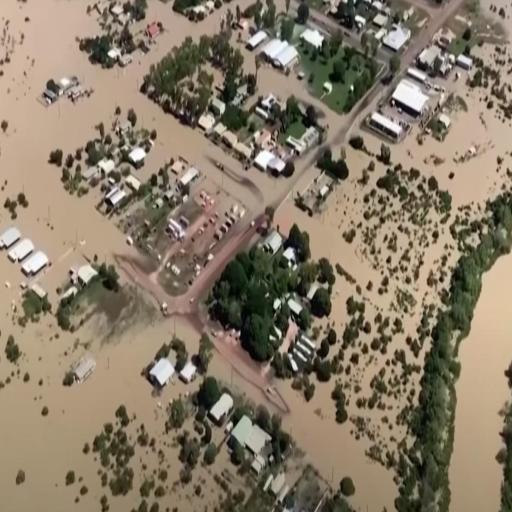flood: (0, 0, 512, 511), (450, 252, 512, 510), (256, 59, 343, 127), (230, 27, 255, 73)
house: (230, 416, 273, 478), (390, 78, 430, 122), (367, 108, 404, 144), (261, 37, 298, 73), (149, 357, 176, 393), (383, 22, 412, 54), (302, 26, 330, 58), (209, 391, 234, 426), (262, 227, 284, 260), (8, 238, 33, 266), (22, 251, 48, 277), (247, 28, 269, 52), (268, 153, 286, 181), (0, 226, 20, 251), (233, 141, 254, 163), (222, 128, 239, 153), (180, 360, 196, 384), (212, 121, 228, 144)
